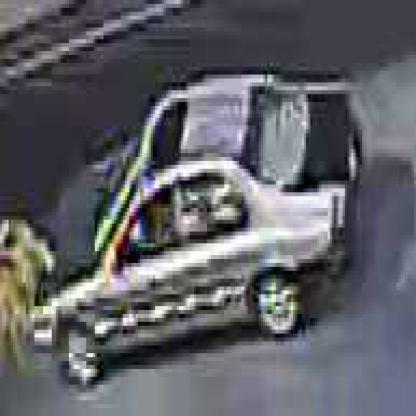car: (49, 80, 383, 354)
